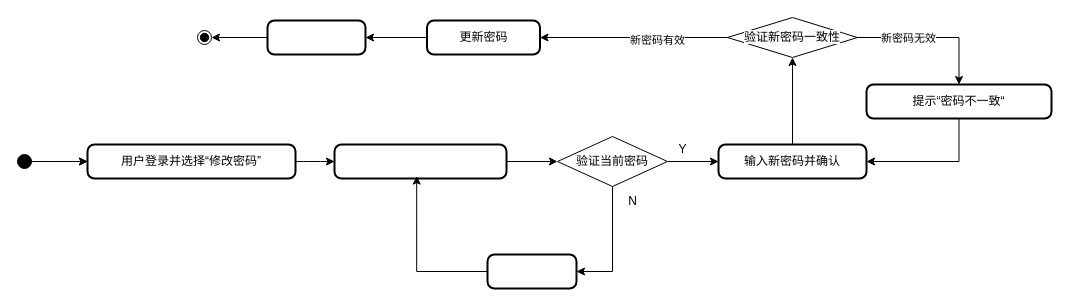
The diagram is 1070 pixels wide and 307 high, and some of its shapes have lost their labels. The box of each missing label's shape, as (x1, y1, x2, y2) in pixels:
提示“当前密码错误”: (486, 253, 577, 289)
显示“密码修改成功”: (266, 19, 366, 55)
输入当前密码: (333, 143, 507, 179)
